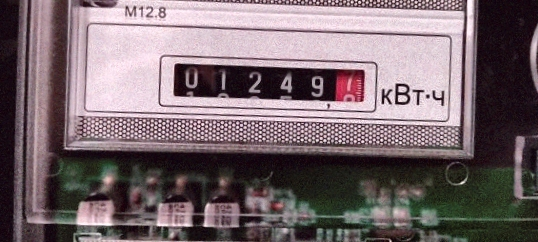0: (182, 63, 200, 90)
1: (214, 65, 229, 91)
2: (244, 69, 263, 96)
4: (277, 68, 294, 94)
7: (341, 66, 358, 93)
9: (306, 72, 325, 99)
screen: (154, 42, 382, 126)
